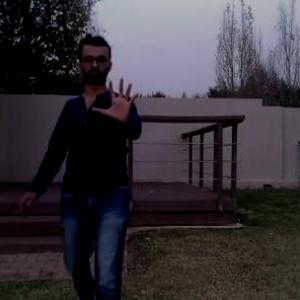follow_hand: (89, 73, 141, 128)
